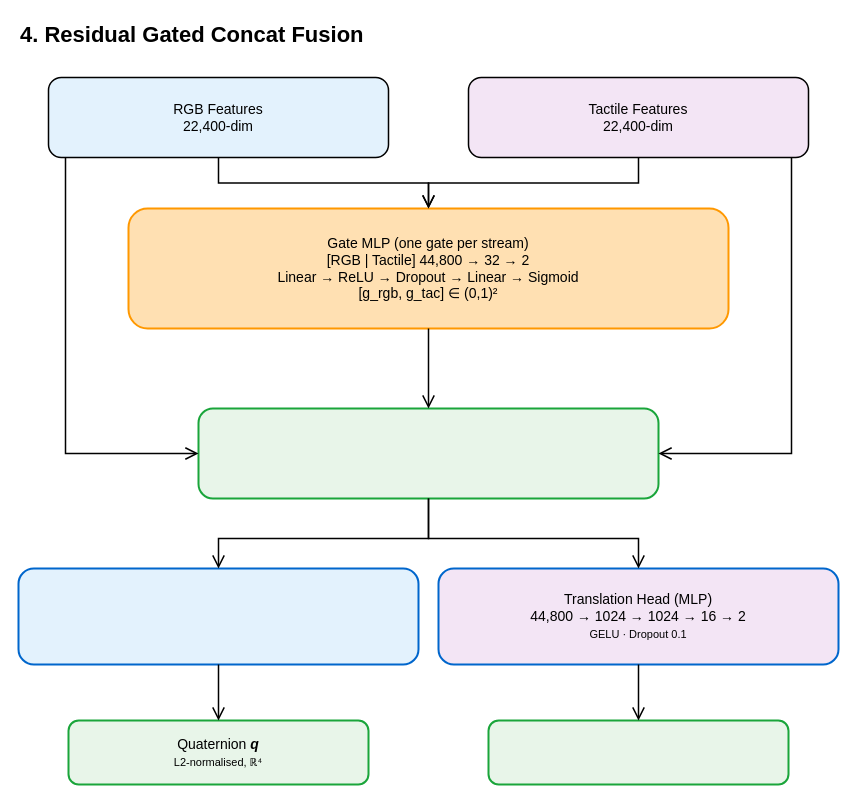
The diagram is 856 pixels wide and 802 high, and some of its shapes have lost their labels. Each missing label, with the box of its shape:
[(1 + g_rgb)·RGB | (1 + g_tac)·Tactile] 44,800-dim: (197, 407, 659, 499)
Rotation Head (MLP) 44,800 → 256 → 1024 → 4 GELU · Dropout 0.1: (17, 567, 419, 665)
Translation Vector [ y , z ] x fixed to 0: (487, 719, 789, 785)
